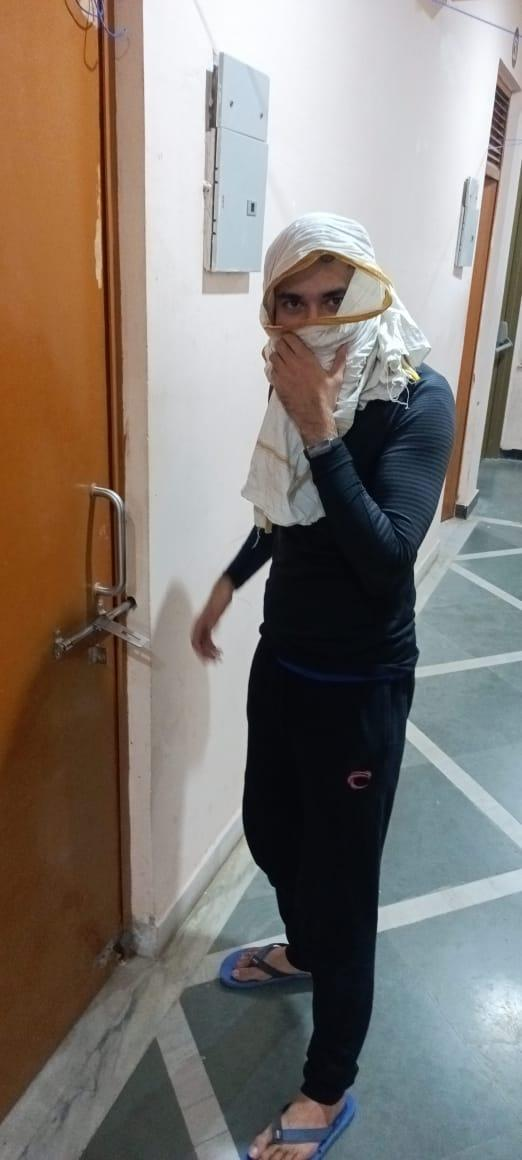suspicion: (187, 193, 487, 1160)
